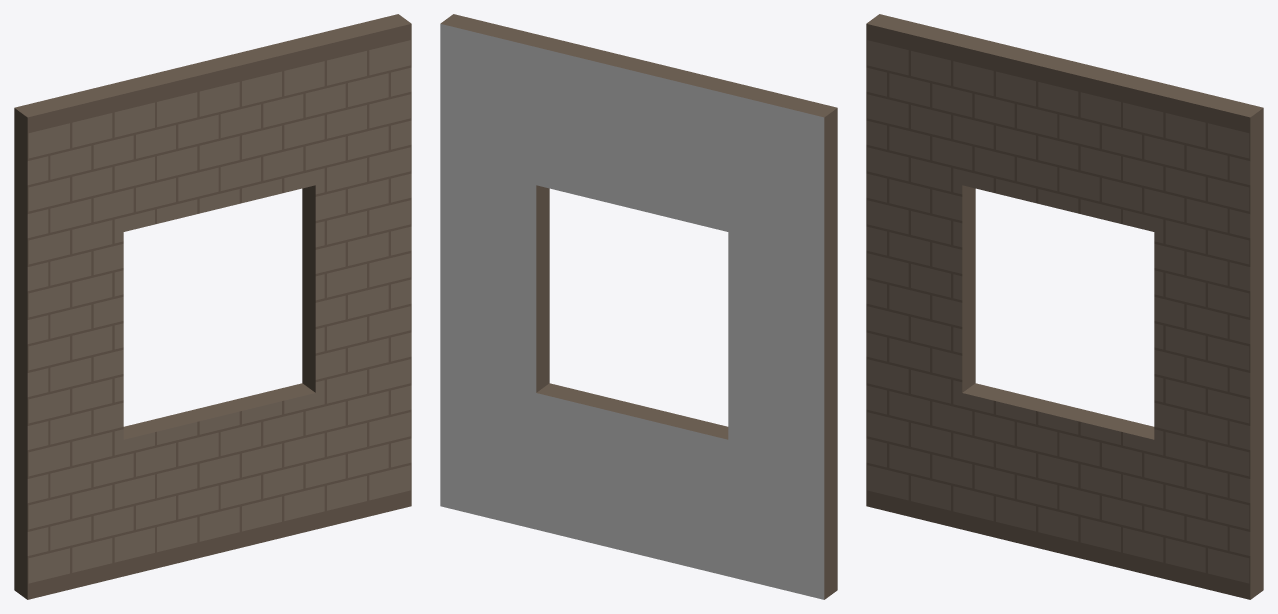
File: Wall1_C10_04.fbx
3 renders of one model, left to right at view 1: azimuth 30°, elevation 25°; view 2: azimuth 150°, elevation 25°; view 3: azimuth 330°, elevation 25°, orthographic.
Visible parts, largest first — view 1: Wall1_C10_04; view 2: Wall1_C10_04; view 3: Wall1_C10_04.
Boxes of the visible parts, left/top/right/bottom form: Wall1_C10_04: left=14, top=14, right=411, bottom=599; Wall1_C10_04: left=440, top=14, right=837, bottom=599; Wall1_C10_04: left=866, top=14, right=1263, bottom=599.
Bounding box in the file's own units: 250 × 300 × 15.
